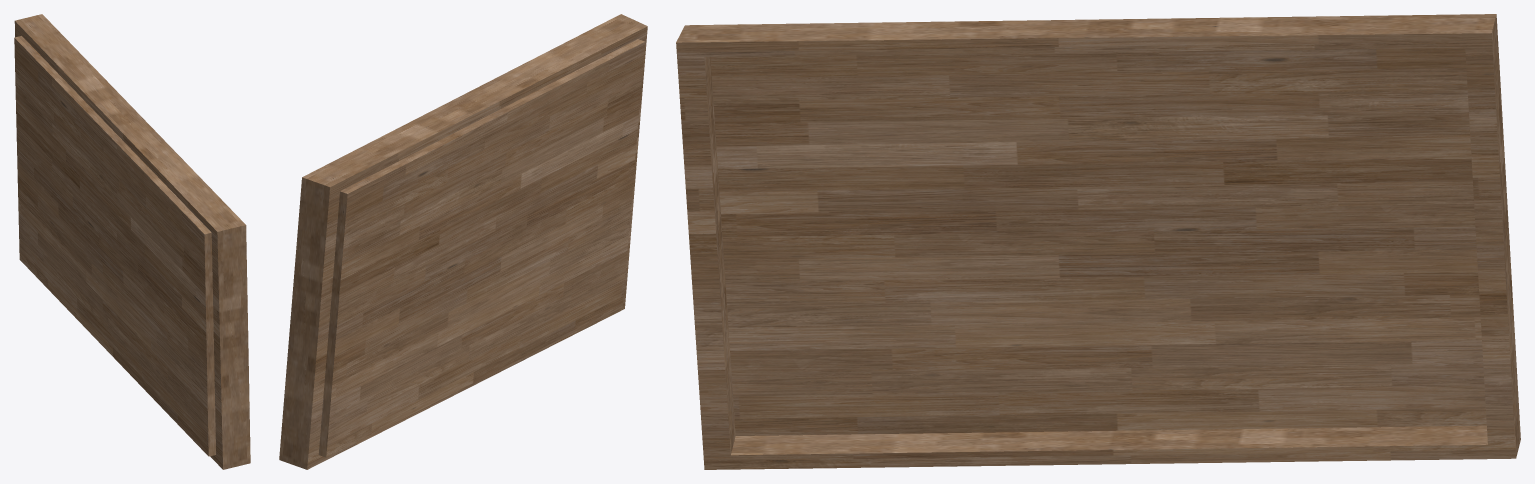
Rendered from frame.obj.
3 renders of one model, left to right at view 1: azimuth 30°, elevation 25°; view 2: azimuth 150°, elevation 25°; view 3: azimuth 270°, elevation 25°, orthographic. The views are drawn at different scales.
Visible parts, largest first — view 1: Cube; view 2: Cube; view 3: Cube.
Part boxes in pixels (left/top/right/bottom): Cube: left=14, top=14, right=250, bottom=469; Cube: left=279, top=14, right=647, bottom=469; Cube: left=676, top=14, right=1520, bottom=469.
Bounding box in the file's own units: 6.3 × 19.9 × 33.11.
